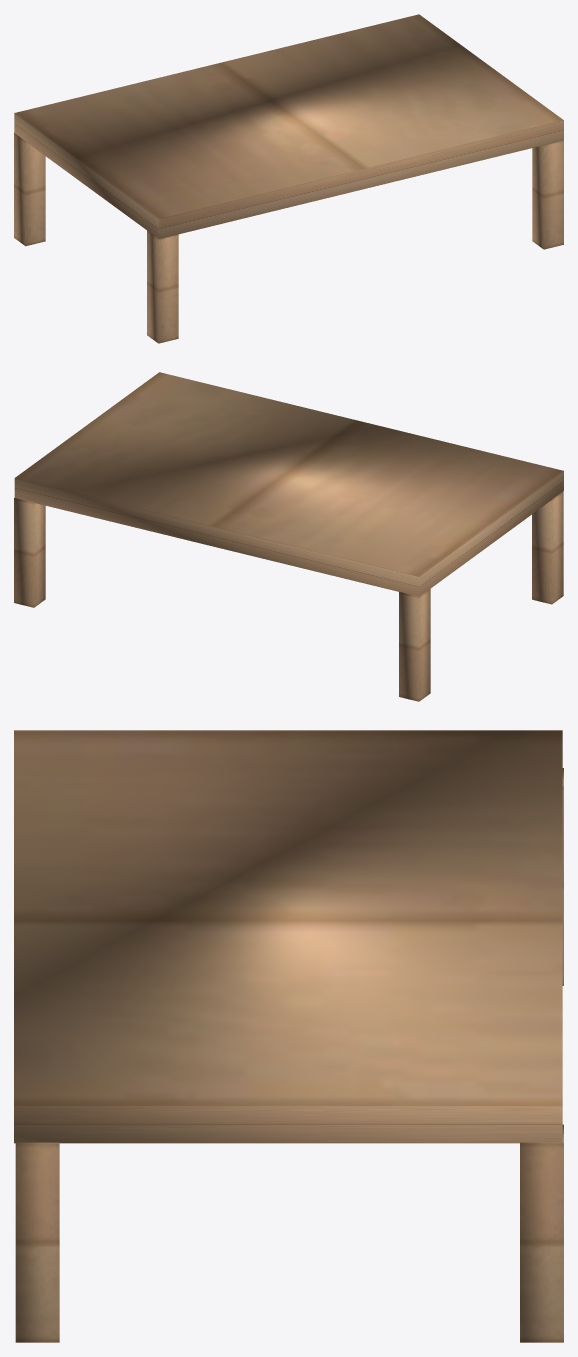
File: Table.obj
3 renders of one model, top to bottom at view 1: azimuth 30°, elevation 25°; view 2: azimuth 150°, elevation 25°; view 3: azimuth 270°, elevation 25°, orthographic. The views are drawn at different scales.
Visible parts, largest first — view 1: Cube.002; view 2: Cube.002; view 3: Cube.002.
Boxes of the visible parts, x1,y1,x2,y2 form: Cube.002: (14,14,563,343); Cube.002: (14,372,563,701); Cube.002: (14,730,563,1342).
Size of the model in its own units: 3.26 by 0.9602 by 2.02.
